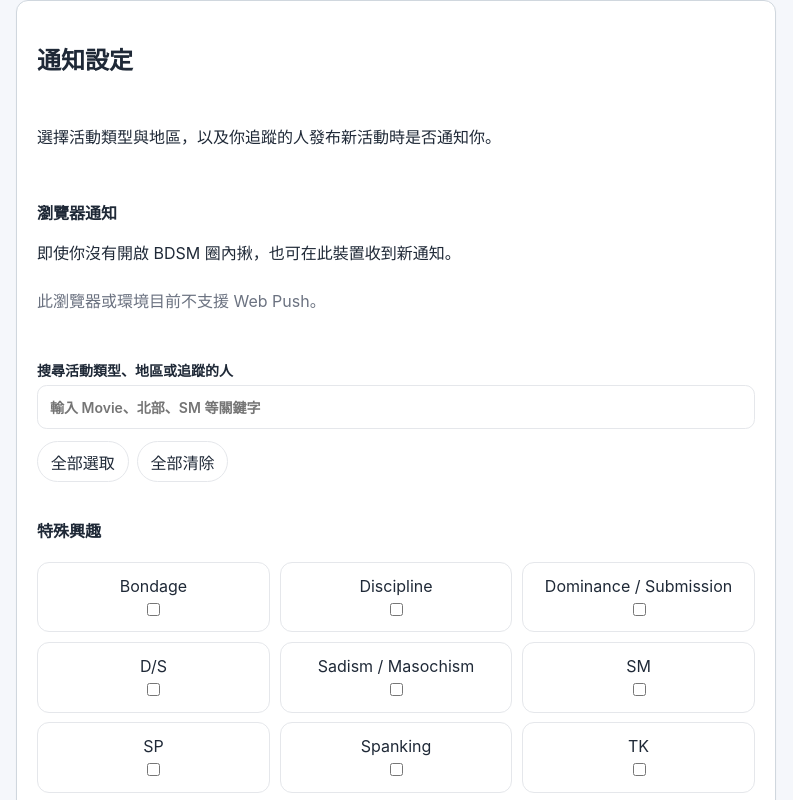
NotificationSettingsPage › searches types and supports bulk selection feedback
The width and height of the screenshot is (793, 800).
Type "Movie" into the field labelled "搜尋活動類型、地區或追蹤的人" at (396, 407), box [37,385,755,429]
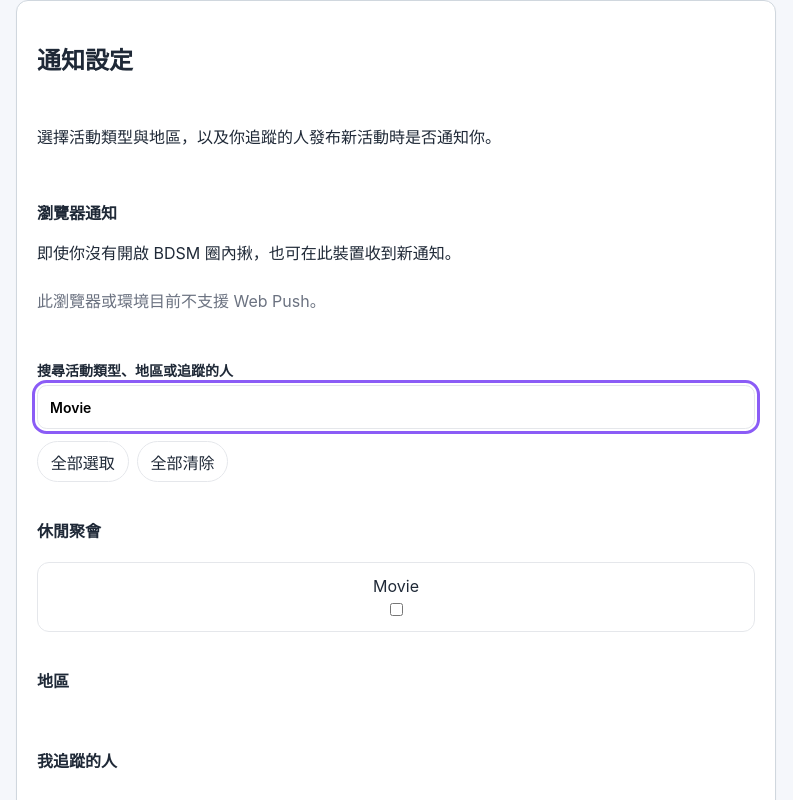
expect the checkbox labelled "Movie" is shown: met, box [390,603,403,616]
Clear the field labelled "搜尋活動類型、地區或追蹤的人" at (396, 407), box [37,385,755,429]
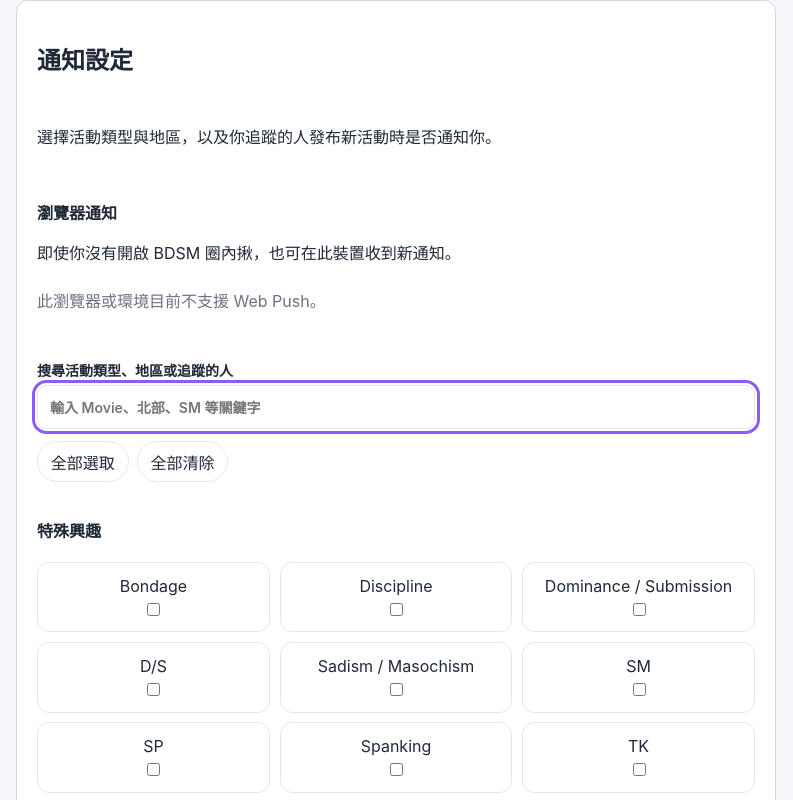
Click the button "全部選取" at (83, 462), box [37,441,129,482]
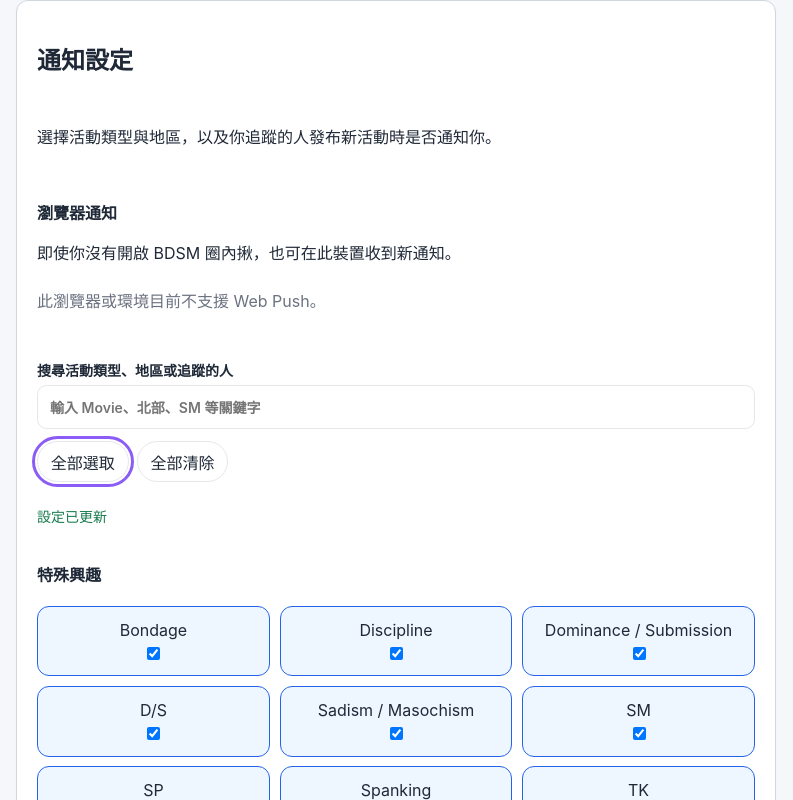
expect the message reads "設定已更新": met, box [37,508,107,525]
